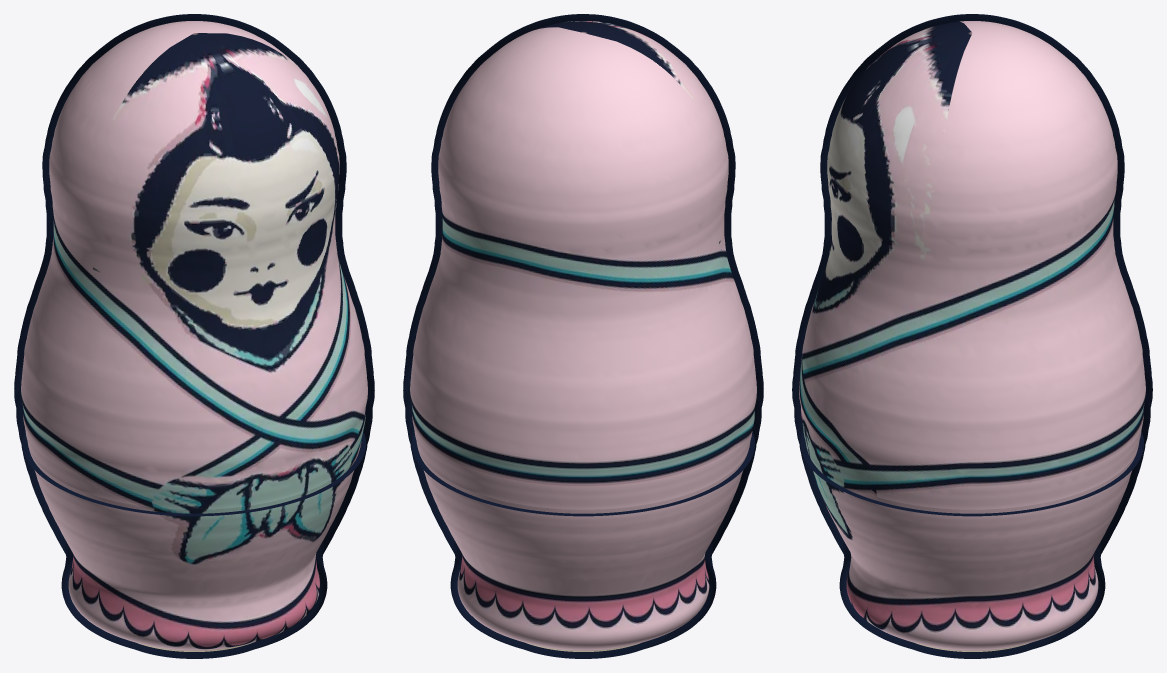
The model's file is dolls.glb.
3 views of the same model, side by side, from view 1: azimuth 30°, elevation 25°; view 2: azimuth 150°, elevation 25°; view 3: azimuth 270°, elevation 25° (orthographic).
Visible parts, largest first — view 1: Doll1_Top, Doll1_Bottom; view 2: Doll1_Top, Doll1_Bottom; view 3: Doll1_Top, Doll1_Bottom.
Boxes of the visible parts, x1=… form: Doll1_Top: x1=14, y1=14, x2=374, y2=516; Doll1_Bottom: x1=21, y1=424, x2=367, y2=658; Doll1_Top: x1=403, y1=14, x2=763, y2=516; Doll1_Bottom: x1=410, y1=424, x2=756, y2=658; Doll1_Top: x1=792, y1=14, x2=1152, y2=516; Doll1_Bottom: x1=799, y1=424, x2=1145, y2=658.
Bounding box in the file's own units: 1.12 × 2.04 × 1.12.
Materials: 7 (5 with a texture image).
